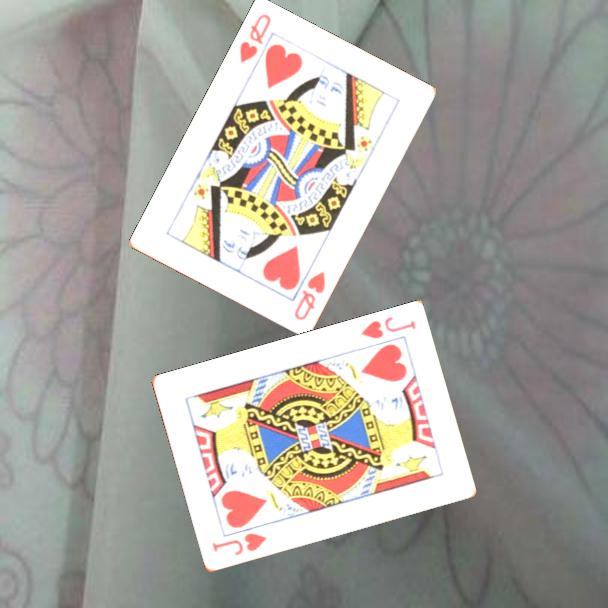h11: (208, 530, 270, 559), (357, 313, 418, 342)
h12: (236, 11, 274, 67), (291, 268, 328, 324)
